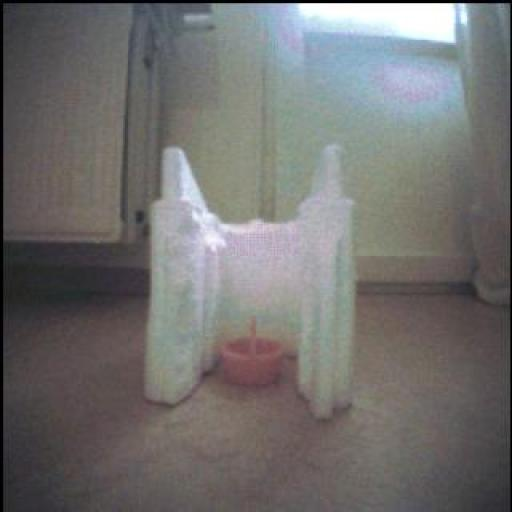Basket: (222, 321, 284, 387)
